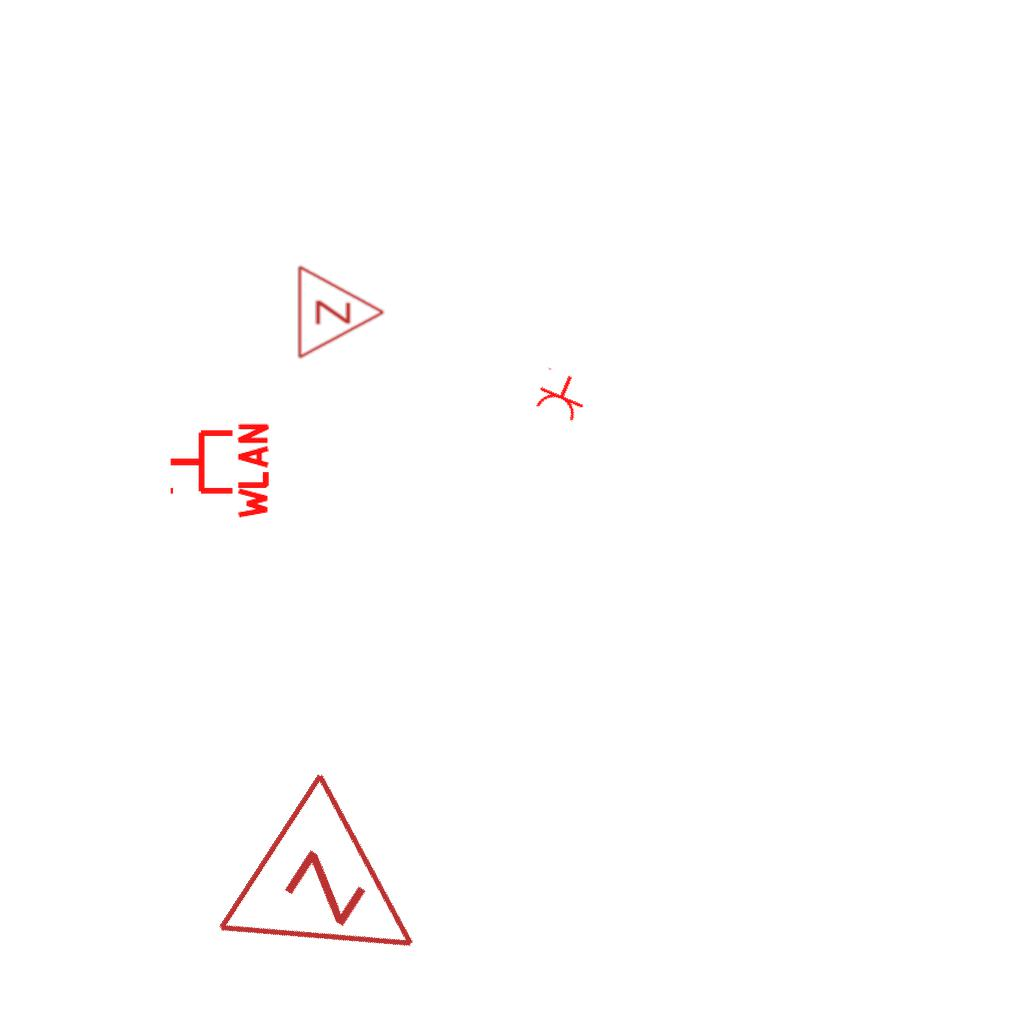Schukosteckdose_einfach: (530, 365, 593, 425)
WLAN: (166, 419, 271, 523)
Zimmersignalleuchte: (203, 758, 479, 1024), (291, 262, 391, 360)
